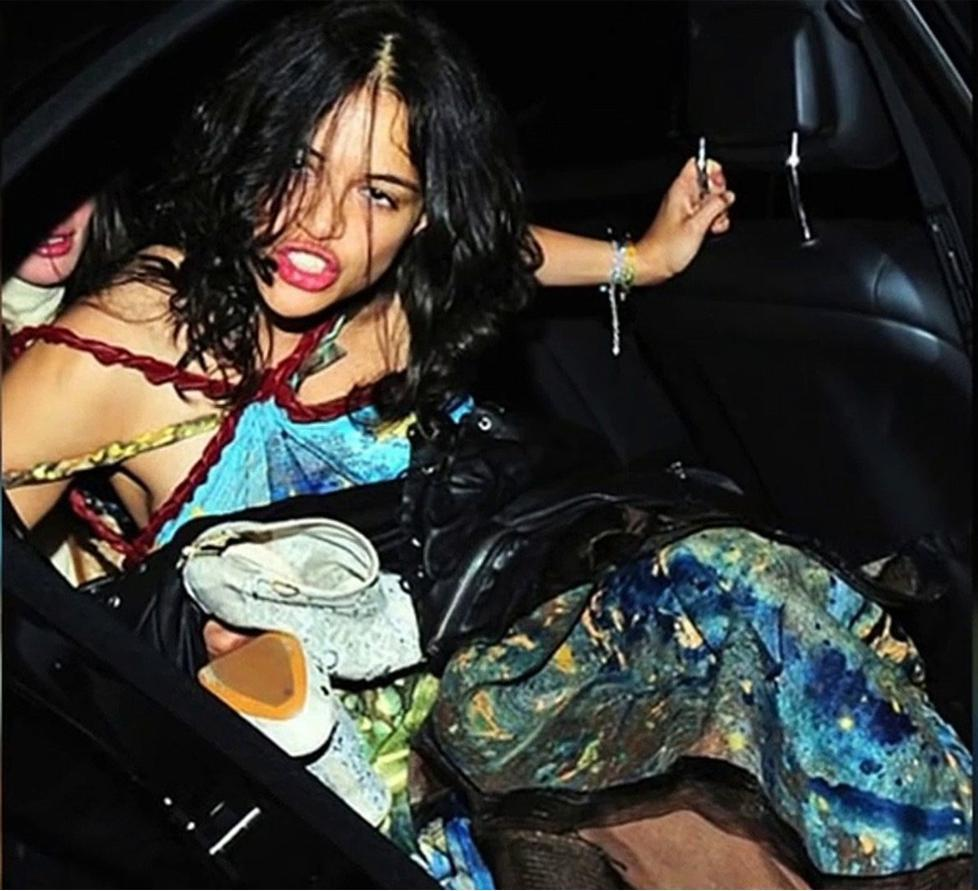Drunk: (259, 84, 415, 313)
